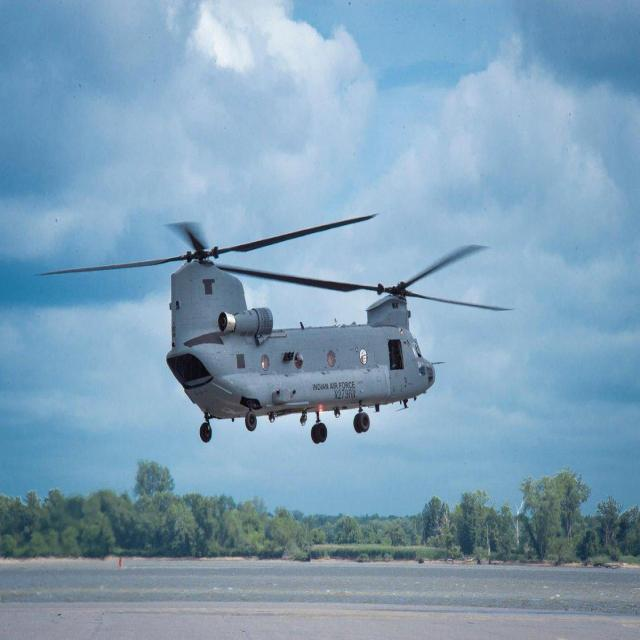MIL_HELO: (31, 215, 519, 442)
